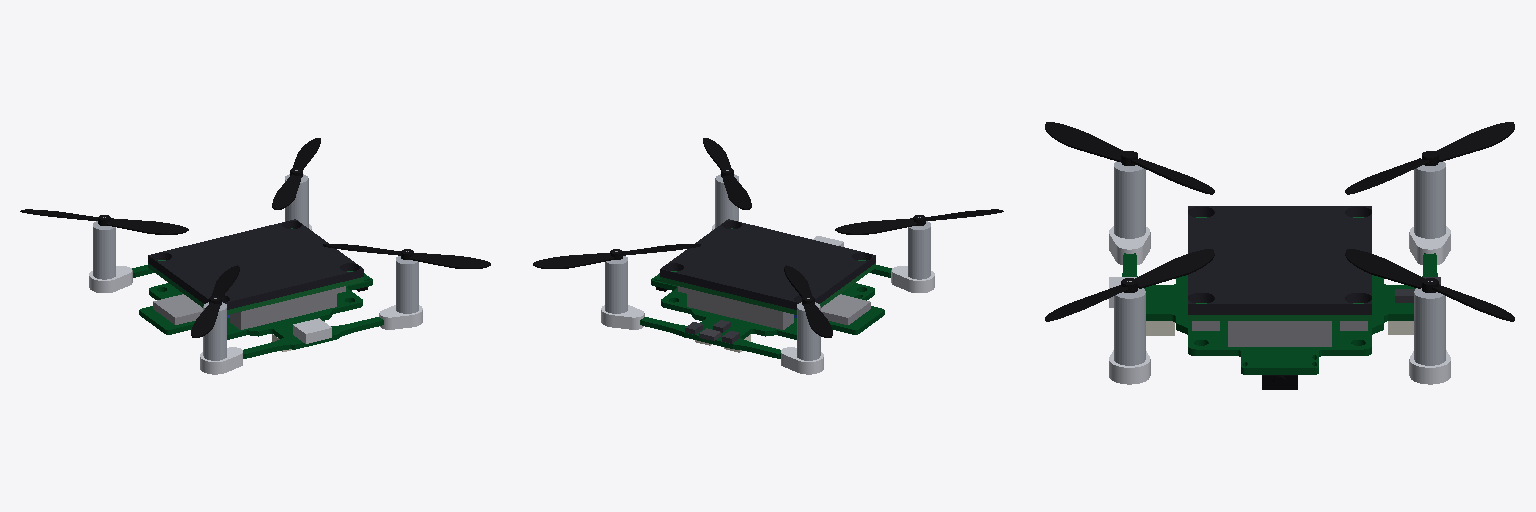
robot.urdf — riskybird:
<?xml version="1.0"?>
<!-- GENERATED by make_rose_urdf.py from riskybird.urdf (scad export); do not edit.
     RoSE layout: root link `body`, props m1..m4 = FR, RR, RL, FL on continuous +z joints. -->
<robot name="riskybird">
  <material name="mat_Board">
    <color rgba="0.040 0.330 0.160 1" />
  </material>
  <material name="mat_SoM">
    <color rgba="0.100 0.420 0.220 1" />
  </material>
  <material name="mat_SoM_Parts">
    <color rgba="0.160 0.160 0.190 1" />
  </material>
  <material name="mat_B2B_JM1">
    <color rgba="0.550 0.550 0.580 1" />
  </material>
  <material name="mat_B2B_JM2">
    <color rgba="0.550 0.550 0.580 1" />
  </material>
  <material name="mat_B2B_JM3">
    <color rgba="0.550 0.550 0.580 1" />
  </material>
  <material name="mat_Battery">
    <color rgba="0.180 0.340 0.720 1" />
  </material>
  <material name="mat_BatteryHolder">
    <color rgba="0.930 0.480 0.120 1" />
  </material>
  <material name="mat_Arm_FR">
    <color rgba="0.820 0.830 0.860 1" />
  </material>
  <material name="mat_Motor_FR">
    <color rgba="0.680 0.700 0.740 1" />
  </material>
  <material name="mat_Prop_FR">
    <color rgba="0.100 0.100 0.110 1" />
  </material>
  <material name="mat_Arm_RR">
    <color rgba="0.820 0.830 0.860 1" />
  </material>
  <material name="mat_Motor_RR">
    <color rgba="0.680 0.700 0.740 1" />
  </material>
  <material name="mat_Prop_RR">
    <color rgba="0.100 0.100 0.110 1" />
  </material>
  <material name="mat_Arm_RL">
    <color rgba="0.820 0.830 0.860 1" />
  </material>
  <material name="mat_Motor_RL">
    <color rgba="0.680 0.700 0.740 1" />
  </material>
  <material name="mat_Prop_RL">
    <color rgba="0.100 0.100 0.110 1" />
  </material>
  <material name="mat_Arm_FL">
    <color rgba="0.820 0.830 0.860 1" />
  </material>
  <material name="mat_Motor_FL">
    <color rgba="0.680 0.700 0.740 1" />
  </material>
  <material name="mat_Prop_FL">
    <color rgba="0.100 0.100 0.110 1" />
  </material>
  <material name="mat_Camera">
    <color rgba="0.080 0.080 0.090 1" />
  </material>
  <material name="mat_FlowSensor">
    <color rgba="0.920 0.720 0.120 1" />
  </material>
  <material name="mat_ToF_Down">
    <color rgba="0.800 0.220 0.220 1" />
  </material>
  <material name="mat_IMU">
    <color rgba="0.350 0.350 0.400 1" />
  </material>
  <material name="mat_USB_C">
    <color rgba="0.780 0.790 0.820 1" />
  </material>
  <material name="mat_JTAG">
    <color rgba="0.070 0.070 0.080 1" />
  </material>
  <material name="mat_ESP32">
    <color rgba="0.600 0.600 0.630 1" />
  </material>
  <material name="mat_PowerSwitch">
    <color rgba="0.300 0.300 0.330 1" />
  </material>
  <material name="mat_Buttons">
    <color rgba="0.250 0.250 0.280 1" />
  </material>
  <material name="mat_MotorConnectors">
    <color rgba="0.850 0.850 0.800 1" />
  </material>
  <material name="mat_Inductor_L2">
    <color rgba="0.450 0.450 0.480 1" />
  </material>
  <link name="body">
    <inertial>
      <origin xyz="-2.24317653e-06 -2.47222813e-05 0.0038404475" rpy="0 0 0" />
      <mass value="0.0581" />
      <inertia ixx="2.18765962e-05" ixy="7.45041885e-09" ixz="-6.04782823e-10" iyy="2.39548568e-05" iyz="-6.66537427e-09" izz="4.29454711e-05" />
    </inertial>
    <visual name="Board">
      <origin xyz="0 0 0" rpy="0 0 0" />
      <geometry>
        <mesh filename="meshes/Board.obj" />
      </geometry>
      <material name="mat_Board" />
    </visual>
    <visual name="SoM">
      <origin xyz="0 0 0" rpy="0 0 0" />
      <geometry>
        <mesh filename="meshes/SoM.obj" />
      </geometry>
      <material name="mat_SoM" />
    </visual>
    <visual name="SoM_Parts">
      <origin xyz="0 0 0" rpy="0 0 0" />
      <geometry>
        <mesh filename="meshes/SoM_Parts.obj" />
      </geometry>
      <material name="mat_SoM_Parts" />
    </visual>
    <visual name="B2B_JM1">
      <origin xyz="0 0 0" rpy="0 0 0" />
      <geometry>
        <mesh filename="meshes/B2B_JM1.obj" />
      </geometry>
      <material name="mat_B2B_JM1" />
    </visual>
    <visual name="B2B_JM2">
      <origin xyz="0 0 0" rpy="0 0 0" />
      <geometry>
        <mesh filename="meshes/B2B_JM2.obj" />
      </geometry>
      <material name="mat_B2B_JM2" />
    </visual>
    <visual name="B2B_JM3">
      <origin xyz="0 0 0" rpy="0 0 0" />
      <geometry>
        <mesh filename="meshes/B2B_JM3.obj" />
      </geometry>
      <material name="mat_B2B_JM3" />
    </visual>
    <visual name="Battery">
      <origin xyz="0 0 0" rpy="0 0 0" />
      <geometry>
        <mesh filename="meshes/Battery.obj" />
      </geometry>
      <material name="mat_Battery" />
    </visual>
    <visual name="BatteryHolder">
      <origin xyz="0 0 0" rpy="0 0 0" />
      <geometry>
        <mesh filename="meshes/BatteryHolder.obj" />
      </geometry>
      <material name="mat_BatteryHolder" />
    </visual>
    <visual name="Arm_FR">
      <origin xyz="0 0 0" rpy="0 0 0" />
      <geometry>
        <mesh filename="meshes/Arm_FR.obj" />
      </geometry>
      <material name="mat_Arm_FR" />
    </visual>
    <visual name="Motor_FR">
      <origin xyz="0 0 0" rpy="0 0 0" />
      <geometry>
        <mesh filename="meshes/Motor_FR.obj" />
      </geometry>
      <material name="mat_Motor_FR" />
    </visual>
    <visual name="Arm_RR">
      <origin xyz="0 0 0" rpy="0 0 0" />
      <geometry>
        <mesh filename="meshes/Arm_RR.obj" />
      </geometry>
      <material name="mat_Arm_RR" />
    </visual>
    <visual name="Motor_RR">
      <origin xyz="0 0 0" rpy="0 0 0" />
      <geometry>
        <mesh filename="meshes/Motor_RR.obj" />
      </geometry>
      <material name="mat_Motor_RR" />
    </visual>
    <visual name="Arm_RL">
      <origin xyz="0 0 0" rpy="0 0 0" />
      <geometry>
        <mesh filename="meshes/Arm_RL.obj" />
      </geometry>
      <material name="mat_Arm_RL" />
    </visual>
    <visual name="Motor_RL">
      <origin xyz="0 0 0" rpy="0 0 0" />
      <geometry>
        <mesh filename="meshes/Motor_RL.obj" />
      </geometry>
      <material name="mat_Motor_RL" />
    </visual>
    <visual name="Arm_FL">
      <origin xyz="0 0 0" rpy="0 0 0" />
      <geometry>
        <mesh filename="meshes/Arm_FL.obj" />
      </geometry>
      <material name="mat_Arm_FL" />
    </visual>
    <visual name="Motor_FL">
      <origin xyz="0 0 0" rpy="0 0 0" />
      <geometry>
        <mesh filename="meshes/Motor_FL.obj" />
      </geometry>
      <material name="mat_Motor_FL" />
    </visual>
    <visual name="Camera">
      <origin xyz="0 0 0" rpy="0 0 0" />
      <geometry>
        <mesh filename="meshes/Camera.obj" />
      </geometry>
      <material name="mat_Camera" />
    </visual>
    <visual name="FlowSensor">
      <origin xyz="0 0 0" rpy="0 0 0" />
      <geometry>
        <mesh filename="meshes/FlowSensor.obj" />
      </geometry>
      <material name="mat_FlowSensor" />
    </visual>
    <visual name="ToF_Down">
      <origin xyz="0 0 0" rpy="0 0 0" />
      <geometry>
        <mesh filename="meshes/ToF_Down.obj" />
      </geometry>
      <material name="mat_ToF_Down" />
    </visual>
    <visual name="IMU">
      <origin xyz="0 0 0" rpy="0 0 0" />
      <geometry>
        <mesh filename="meshes/IMU.obj" />
      </geometry>
      <material name="mat_IMU" />
    </visual>
    <visual name="USB_C">
      <origin xyz="0 0 0" rpy="0 0 0" />
      <geometry>
        <mesh filename="meshes/USB_C.obj" />
      </geometry>
      <material name="mat_USB_C" />
    </visual>
    <visual name="JTAG">
      <origin xyz="0 0 0" rpy="0 0 0" />
      <geometry>
        <mesh filename="meshes/JTAG.obj" />
      </geometry>
      <material name="mat_JTAG" />
    </visual>
    <visual name="ESP32">
      <origin xyz="0 0 0" rpy="0 0 0" />
      <geometry>
        <mesh filename="meshes/ESP32.obj" />
      </geometry>
      <material name="mat_ESP32" />
    </visual>
    <visual name="PowerSwitch">
      <origin xyz="0 0 0" rpy="0 0 0" />
      <geometry>
        <mesh filename="meshes/PowerSwitch.obj" />
      </geometry>
      <material name="mat_PowerSwitch" />
    </visual>
    <visual name="Buttons">
      <origin xyz="0 0 0" rpy="0 0 0" />
      <geometry>
        <mesh filename="meshes/Buttons.obj" />
      </geometry>
      <material name="mat_Buttons" />
    </visual>
    <visual name="MotorConnectors">
      <origin xyz="0 0 0" rpy="0 0 0" />
      <geometry>
        <mesh filename="meshes/MotorConnectors.obj" />
      </geometry>
      <material name="mat_MotorConnectors" />
    </visual>
    <visual name="Inductor_L2">
      <origin xyz="0 0 0" rpy="0 0 0" />
      <geometry>
        <mesh filename="meshes/Inductor_L2.obj" />
      </geometry>
      <material name="mat_Inductor_L2" />
    </visual>
    <collision name="Board_Center">
      <origin xyz="0 0 -0.0008" rpy="0 0 0" />
      <geometry>
        <box size="0.051 0.04 0.0016" />
      </geometry>
    </collision>
    <collision name="Board_Tabs">
      <origin xyz="0 0 -0.0008" rpy="0 0 0" />
      <geometry>
        <box size="0.07 0.015 0.0016" />
      </geometry>
    </collision>
    <collision name="Board_Neck_L">
      <origin xyz="0 0.0255 -0.0008" rpy="0 0 0" />
      <geometry>
        <box size="0.0174 0.011 0.0016" />
      </geometry>
    </collision>
    <collision name="Board_Rail_L">
      <origin xyz="0 0.0325 -0.0008" rpy="0 0 0" />
      <geometry>
        <box size="0.053 0.003 0.0016" />
      </geometry>
    </collision>
    <collision name="Board_Neck_R">
      <origin xyz="0 -0.0255 -0.0008" rpy="0 0 0" />
      <geometry>
        <box size="0.0174 0.011 0.0016" />
      </geometry>
    </collision>
    <collision name="Board_Rail_R">
      <origin xyz="0 -0.0325 -0.0008" rpy="0 0 0" />
      <geometry>
        <box size="0.053 0.003 0.0016" />
      </geometry>
    </collision>
    <collision name="SoM">
      <origin xyz="0 0 0.00855" rpy="0 0 0" />
      <geometry>
        <box size="0.05 0.04 0.0041" />
      </geometry>
    </collision>
    <collision name="Battery">
      <origin xyz="0 0 0.0011" rpy="0 0 0" />
      <geometry>
        <box size="0.032 0.02 0.007" />
      </geometry>
    </collision>
    <collision name="BatteryHolder">
      <origin xyz="0 0 -0.0028" rpy="0 0 0" />
      <geometry>
        <box size="0.034 0.02 0.0008" />
      </geometry>
    </collision>
    <collision name="MotorCan_FR">
      <origin xyz="0.0325 -0.0325 0.007" rpy="0 0 0" />
      <geometry>
        <cylinder radius="0.0035" length="0.02" />
      </geometry>
    </collision>
    <collision name="MotorCan_RR">
      <origin xyz="-0.0325 -0.0325 0.007" rpy="0 0 0" />
      <geometry>
        <cylinder radius="0.0035" length="0.02" />
      </geometry>
    </collision>
    <collision name="MotorCan_RL">
      <origin xyz="-0.0325 0.0325 0.007" rpy="0 0 0" />
      <geometry>
        <cylinder radius="0.0035" length="0.02" />
      </geometry>
    </collision>
    <collision name="MotorCan_FL">
      <origin xyz="0.0325 0.0325 0.007" rpy="0 0 0" />
      <geometry>
        <cylinder radius="0.0035" length="0.02" />
      </geometry>
    </collision>
    <collision name="Landing_JTAG">
      <origin xyz="0.022005 0 -0.0038" rpy="0 0 0" />
      <geometry>
        <box size="0.00343 0.0127 0.0044" />
      </geometry>
    </collision>
    <collision name="Landing_MotorConn_FR">
      <origin xyz="0.005 -0.02605 -0.0033" rpy="0 0 0" />
      <geometry>
        <box size="0.00525 0.0065 0.0034" />
      </geometry>
    </collision>
    <collision name="Landing_MotorConn_RR">
      <origin xyz="-0.00505 -0.026 -0.0033" rpy="0 0 0" />
      <geometry>
        <box size="0.00525 0.0065 0.0034" />
      </geometry>
    </collision>
    <collision name="Landing_MotorConn_RL">
      <origin xyz="-0.004935 0.02649 -0.0033" rpy="0 0 0" />
      <geometry>
        <box size="0.00525 0.0065 0.0034" />
      </geometry>
    </collision>
    <collision name="Landing_MotorConn_FL">
      <origin xyz="0.004885 0.02658 -0.0033" rpy="0 0 0" />
      <geometry>
        <box size="0.00525 0.0065 0.0034" />
      </geometry>
    </collision>
    <collision name="Landing_CameraBracket">
      <origin xyz="0.034 0 -0.0033" rpy="0 0 0" />
      <geometry>
        <box size="0.003 0.008 0.0034" />
      </geometry>
    </collision>
    <collision name="Landing_L2">
      <origin xyz="0.0092 -0.01424 -0.00315" rpy="0 0 0" />
      <geometry>
        <box size="0.0075 0.0075 0.0031" />
      </geometry>
    </collision>
  </link>
  <link name="m1_prop">
    <inertial>
      <origin xyz="0 0 0" rpy="0 0 0" />
      <mass value="0.0001" />
      <inertia ixx="1.625625e-08" ixy="0" ixz="0" iyy="1.625625e-08" iyz="0" izz="3.25125e-08" />
    </inertial>
    <visual name="Prop_FR">
      <origin xyz="-0.0325 0.0325 -0.0185" rpy="0 0 0" />
      <geometry>
        <mesh filename="meshes/Prop_FR.obj" />
      </geometry>
      <material name="mat_Prop_FR" />
    </visual>
  </link>
  <joint name="m1_joint" type="continuous">
    <parent link="body" />
    <child link="m1_prop" />
    <origin xyz="0.0325 -0.0325 0.0185" rpy="0 0 0" />
    <axis xyz="0 0 1" />
  </joint>
  <!-- m1 = FR (PCB MOTOR1) -->
  <link name="m2_prop">
    <inertial>
      <origin xyz="0 0 0" rpy="0 0 0" />
      <mass value="0.0001" />
      <inertia ixx="1.625625e-08" ixy="0" ixz="0" iyy="1.625625e-08" iyz="0" izz="3.25125e-08" />
    </inertial>
    <visual name="Prop_RR">
      <origin xyz="0.0325 0.0325 -0.0185" rpy="0 0 0" />
      <geometry>
        <mesh filename="meshes/Prop_RR.obj" />
      </geometry>
      <material name="mat_Prop_RR" />
    </visual>
  </link>
  <joint name="m2_joint" type="continuous">
    <parent link="body" />
    <child link="m2_prop" />
    <origin xyz="-0.0325 -0.0325 0.0185" rpy="0 0 0" />
    <axis xyz="0 0 1" />
  </joint>
  <!-- m2 = RR (PCB MOTOR2) -->
  <link name="m3_prop">
    <inertial>
      <origin xyz="0 0 0" rpy="0 0 0" />
      <mass value="0.0001" />
      <inertia ixx="1.625625e-08" ixy="0" ixz="0" iyy="1.625625e-08" iyz="0" izz="3.25125e-08" />
    </inertial>
    <visual name="Prop_RL">
      <origin xyz="0.0325 -0.0325 -0.0185" rpy="0 0 0" />
      <geometry>
        <mesh filename="meshes/Prop_RL.obj" />
      </geometry>
      <material name="mat_Prop_RL" />
    </visual>
  </link>
  <joint name="m3_joint" type="continuous">
    <parent link="body" />
    <child link="m3_prop" />
    <origin xyz="-0.0325 0.0325 0.0185" rpy="0 0 0" />
    <axis xyz="0 0 1" />
  </joint>
  <!-- m3 = RL (PCB MOTOR3) -->
  <link name="m4_prop">
    <inertial>
      <origin xyz="0 0 0" rpy="0 0 0" />
      <mass value="0.0001" />
      <inertia ixx="1.625625e-08" ixy="0" ixz="0" iyy="1.625625e-08" iyz="0" izz="3.25125e-08" />
    </inertial>
    <visual name="Prop_FL">
      <origin xyz="-0.0325 -0.0325 -0.0185" rpy="0 0 0" />
      <geometry>
        <mesh filename="meshes/Prop_FL.obj" />
      </geometry>
      <material name="mat_Prop_FL" />
    </visual>
  </link>
  <joint name="m4_joint" type="continuous">
    <parent link="body" />
    <child link="m4_prop" />
    <origin xyz="0.0325 0.0325 0.0185" rpy="0 0 0" />
    <axis xyz="0 0 1" />
  </joint>
  <!-- m4 = FL (PCB MOTOR4) -->
</robot>

--- What the picture shows (computed from the rendered views, not written in the file) ---
The picture shows the robot from 3 angles, left to right: view 1: azimuth 30°, elevation 25°; view 2: azimuth 150°, elevation 25°; view 3: azimuth 270°, elevation 25°; orthographic projection.
Model riskybird with 5 links and 4 joints (4 continuous), rooted at body, posed every joint at zero.
Links seen in each view (by area): view 1: body, m3_prop, m1_prop, m2_prop, m4_prop; view 2: body, m2_prop, m4_prop, m1_prop, m3_prop; view 3: body, m2_prop, m3_prop, m4_prop, m1_prop.
Boxes of the visible links, box(x1,y1,x2,y2) form: body: box(89, 170, 422, 374); m3_prop: box(20, 209, 188, 234); m1_prop: box(323, 244, 490, 268); m2_prop: box(191, 265, 239, 337); m4_prop: box(272, 138, 320, 209); body: box(601, 170, 934, 374); m2_prop: box(835, 209, 1003, 234); m4_prop: box(533, 244, 700, 268); m1_prop: box(703, 138, 751, 209); m3_prop: box(784, 265, 832, 337); body: box(1109, 161, 1450, 389); m2_prop: box(1045, 122, 1214, 194); m3_prop: box(1345, 122, 1514, 194); m4_prop: box(1345, 249, 1514, 321); m1_prop: box(1045, 249, 1214, 321).
Bounding box of the posed robot: 0.1011 × 0.1019 × 0.0255 m (x, y, z).
31 mesh visuals loaded from 31 distinct referenced files (31 OBJ).
